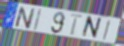9: (50, 12, 66, 35)
I: (32, 9, 43, 32), (102, 19, 112, 42)
N: (80, 16, 103, 41), (14, 6, 36, 30)
T: (69, 13, 85, 37)
